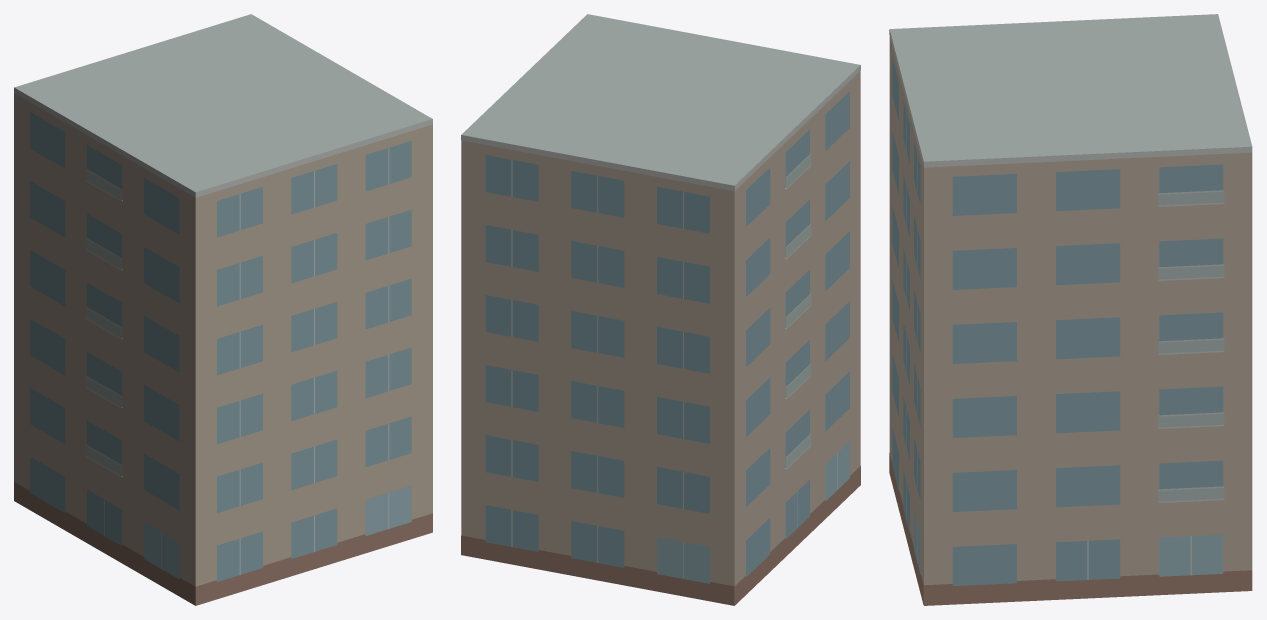
File: survey-upis-32663342.glb
3 views of the same model, side by side, from view 1: azimuth 30°, elevation 25°; view 2: azimuth 150°, elevation 25°; view 3: azimuth 270°, elevation 25° (orthographic). The views are drawn at different scales.
Parts seen in each view (by area): view 1: survey-upis-32663342.tmp; view 2: survey-upis-32663342.tmp; view 3: survey-upis-32663342.tmp.
Part boxes in pixels (x1=…): survey-upis-32663342.tmp: x1=14, y1=14, x2=432, y2=605; survey-upis-32663342.tmp: x1=461, y1=14, x2=860, y2=605; survey-upis-32663342.tmp: x1=889, y1=14, x2=1252, y2=605.
Bounding box in the file's own units: 13.06 × 18.3 × 13.56.
